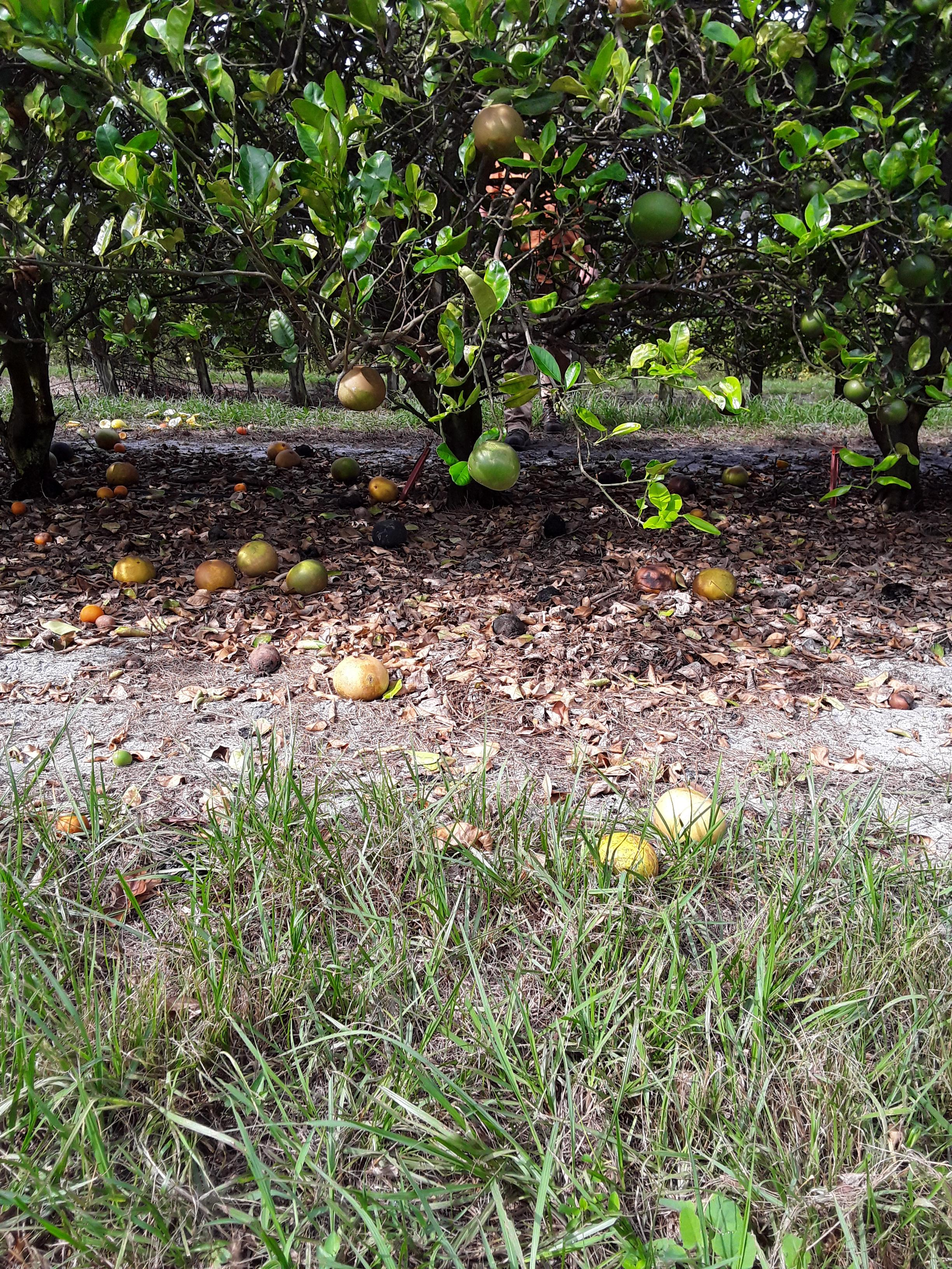fruit_on_ground: (464, 98, 532, 164), (467, 439, 528, 495), (628, 187, 683, 244), (336, 366, 389, 414), (600, 1, 675, 29), (896, 252, 939, 290), (795, 175, 836, 212), (793, 306, 830, 339), (841, 369, 874, 406), (876, 397, 912, 427), (819, 324, 847, 356)
fruit_on_tree: (645, 781, 746, 847), (322, 653, 401, 706), (596, 828, 666, 884), (237, 533, 284, 580), (284, 556, 336, 596), (693, 561, 740, 603), (52, 807, 100, 848), (191, 556, 241, 593), (630, 557, 679, 592), (109, 553, 160, 585), (240, 645, 288, 677), (485, 612, 529, 641), (369, 519, 410, 548), (325, 454, 367, 482), (104, 460, 145, 488), (368, 474, 402, 504), (266, 434, 296, 463), (275, 447, 309, 472), (541, 511, 569, 540), (887, 684, 917, 711), (667, 472, 699, 496), (94, 425, 122, 451), (72, 602, 108, 622), (48, 440, 78, 463), (720, 463, 749, 486), (86, 617, 122, 634), (31, 531, 55, 551), (9, 497, 30, 517), (46, 447, 61, 474), (113, 484, 134, 502), (96, 485, 115, 503), (690, 502, 708, 520), (231, 480, 250, 495), (111, 415, 127, 431), (115, 441, 130, 456), (775, 455, 791, 469), (237, 423, 250, 436)
